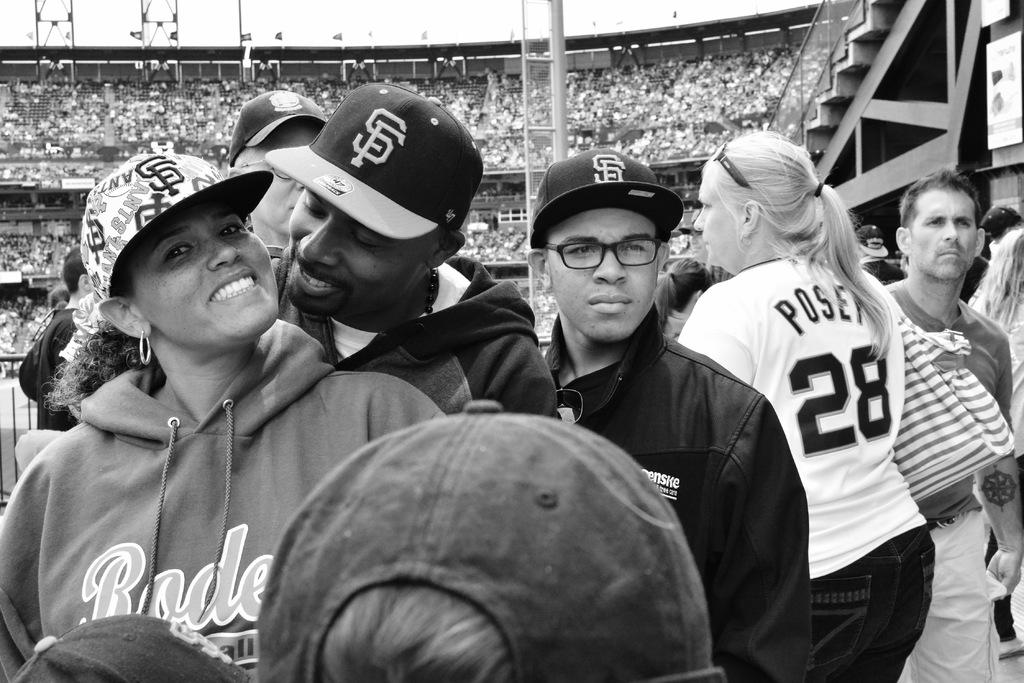Hat: (257, 396, 724, 682), (265, 74, 486, 238), (70, 146, 282, 310), (8, 612, 252, 682), (532, 146, 686, 246), (226, 90, 330, 166)
